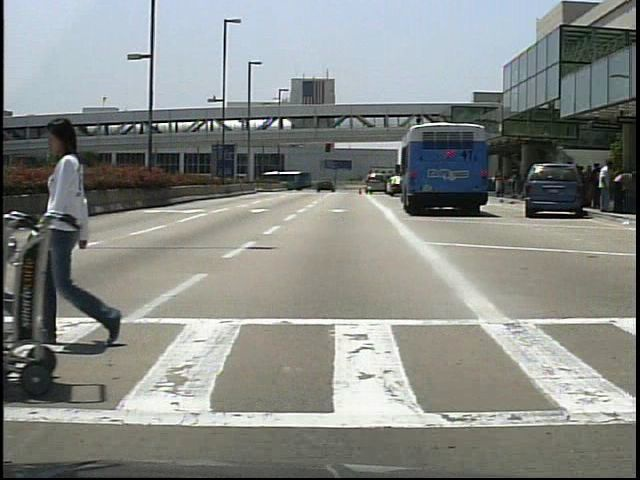person: (42, 112, 130, 354), (598, 160, 618, 213), (588, 161, 605, 214)
